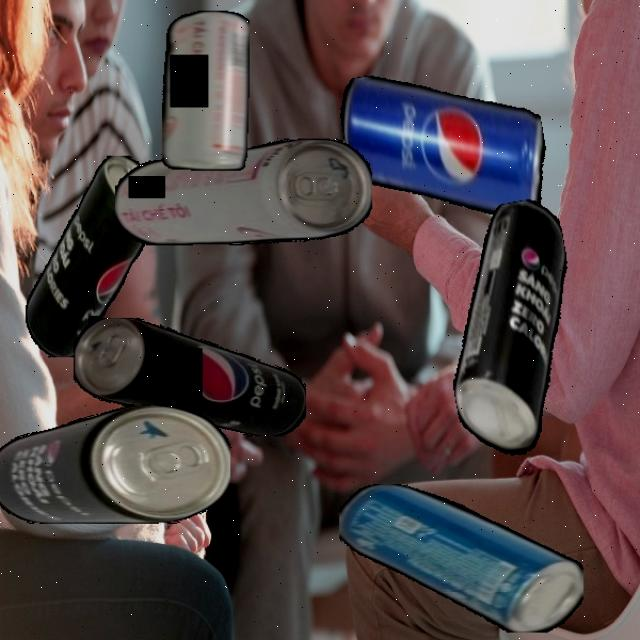debris: (424, 195, 600, 470), (335, 48, 557, 246), (339, 483, 584, 633), (74, 317, 306, 436), (0, 404, 230, 523), (114, 139, 372, 245), (24, 155, 159, 357), (161, 11, 250, 170)
